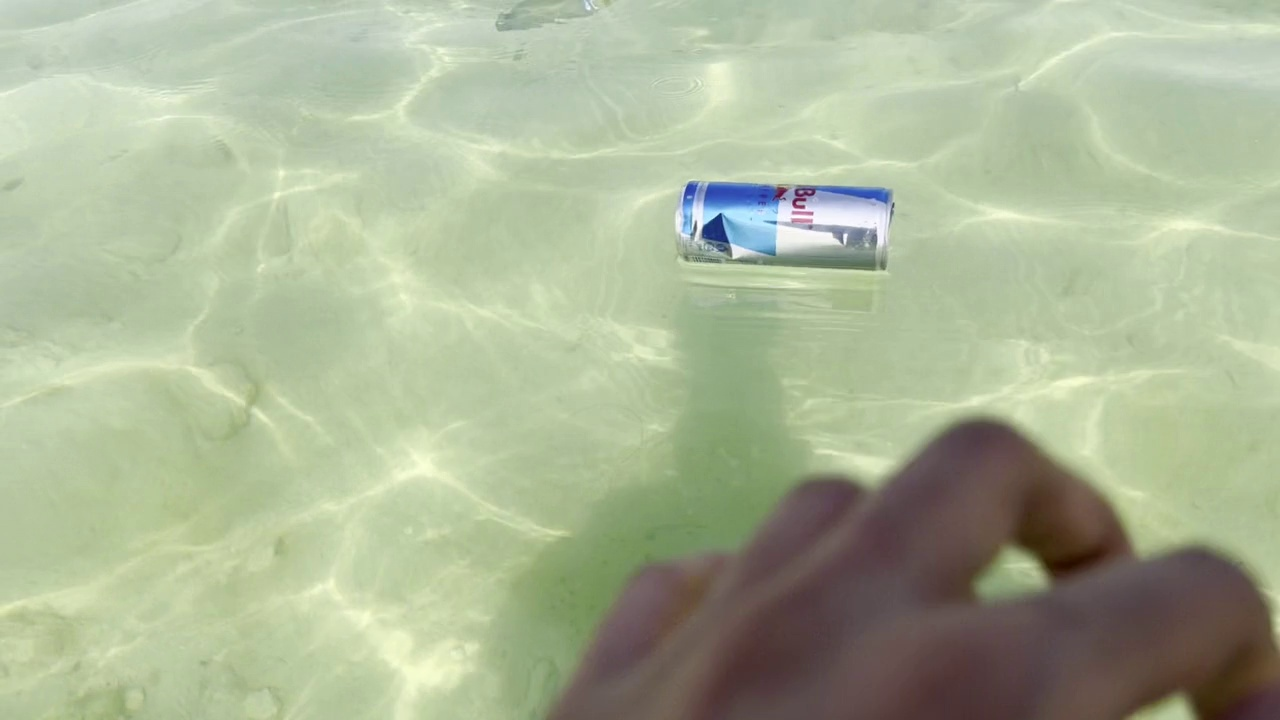debris: (661, 164, 905, 283)
